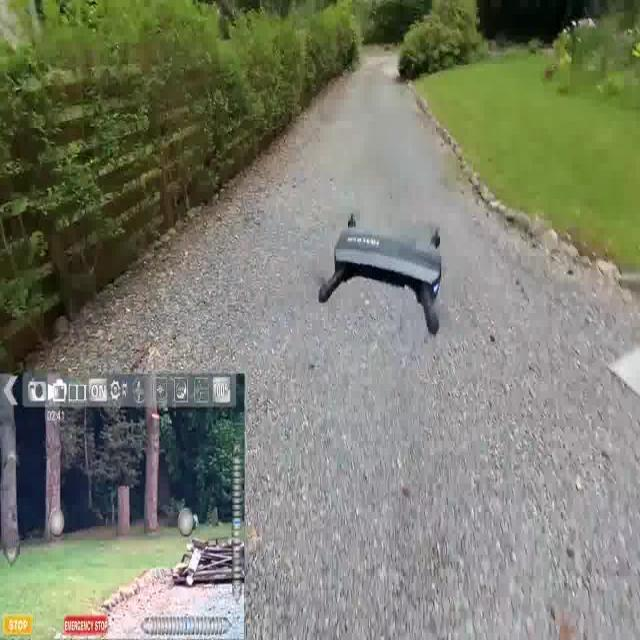drone: (306, 205, 458, 359)
